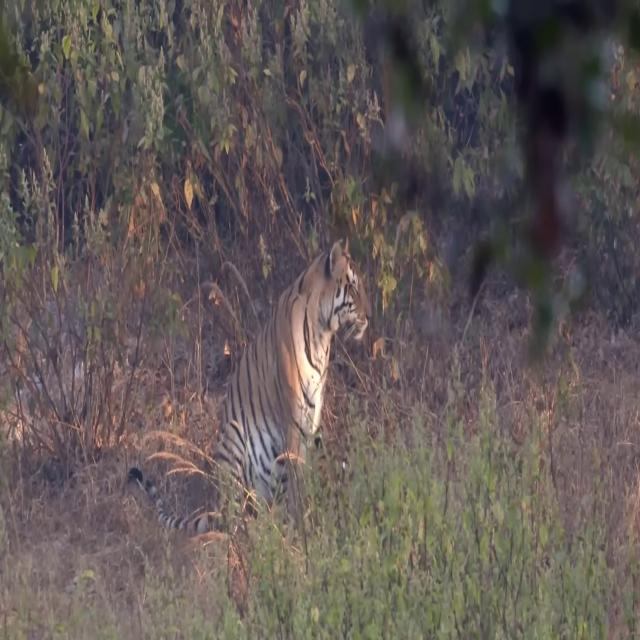tiger: (120, 231, 374, 535)
